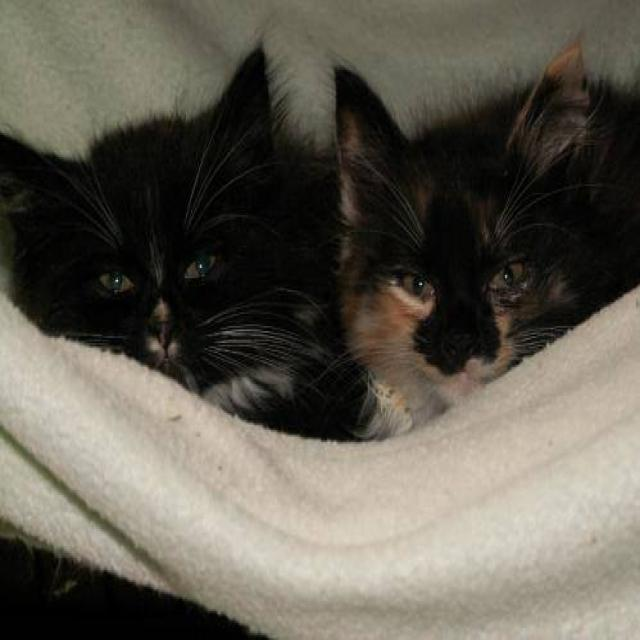cat: (0, 39, 373, 435), (330, 31, 638, 437)
